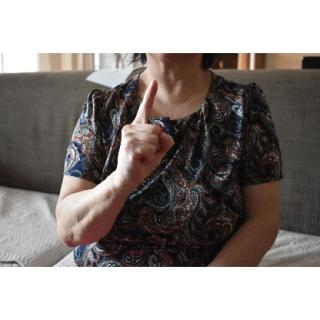RAA: (112, 76, 180, 190)
